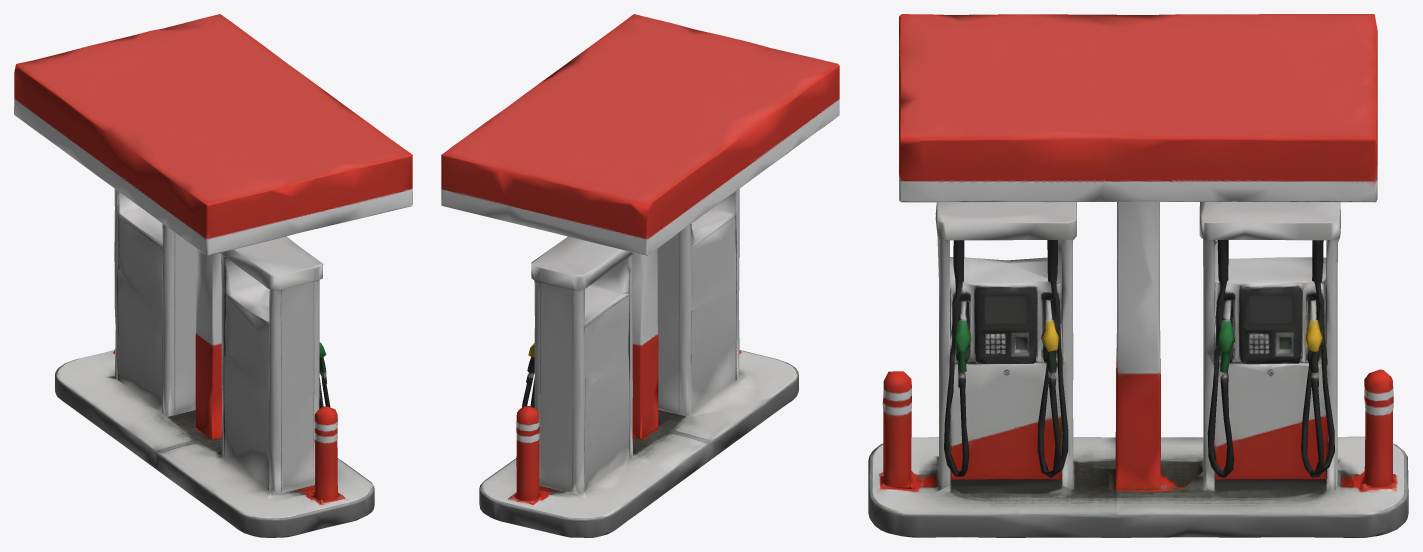
The model's file is fuel_pumps.glb.
3 views of the same model, side by side, from view 1: azimuth 30°, elevation 25°; view 2: azimuth 150°, elevation 25°; view 3: azimuth 270°, elevation 25° (orthographic). The views are drawn at different scales.
Visible parts, largest first — view 1: tripo_node_07bf7a12-ffea-43cc-b879-60b26f06d415; view 2: tripo_node_07bf7a12-ffea-43cc-b879-60b26f06d415; view 3: tripo_node_07bf7a12-ffea-43cc-b879-60b26f06d415.
Boxes of the visible parts, x1=… form: tripo_node_07bf7a12-ffea-43cc-b879-60b26f06d415: x1=14, y1=14, x2=412, y2=537; tripo_node_07bf7a12-ffea-43cc-b879-60b26f06d415: x1=441, y1=14, x2=839, y2=537; tripo_node_07bf7a12-ffea-43cc-b879-60b26f06d415: x1=868, y1=14, x2=1408, y2=537.
Bounding box in the file's own units: 0.5497 × 0.8639 × 1.
Materials: 1 (1 with a texture image).
